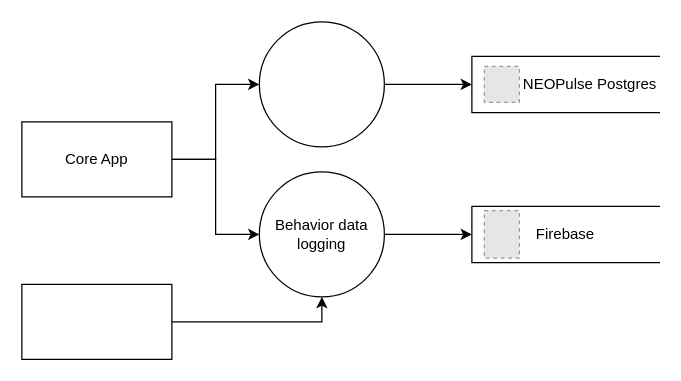
Image size: 681x381. Some labels were removed from this diagram. Grey dashed boxes stand in for pictures. Each missing label, with the box of its shape:
Content data capture: (258, 21, 384, 147)
Web: (21, 283, 172, 359)
